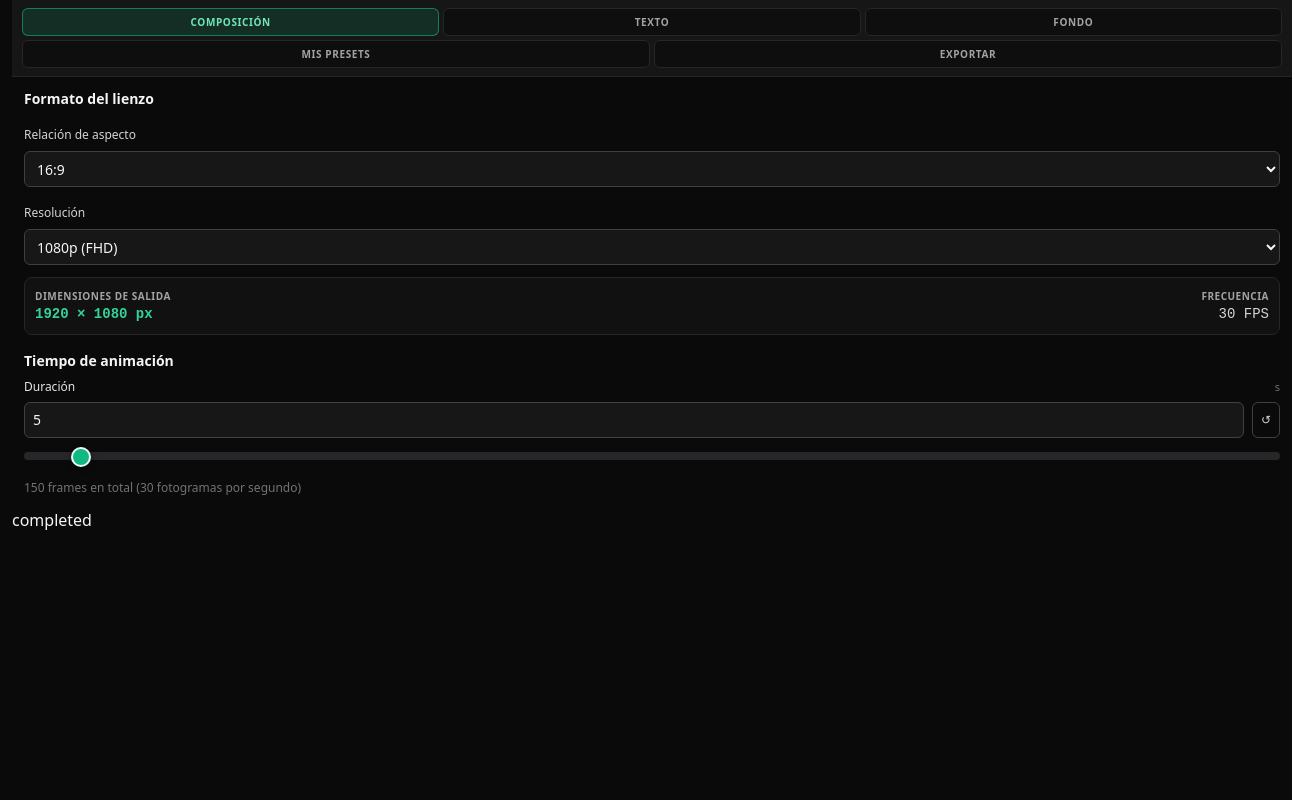
Test: InspectorPanel tabs › mantiene el Guardar previo conectado y bloqueado mientras una exportación individual real espera writable.write(blob)
Click the tab "Exportar". click: (968, 54)
box: [654,40,1282,68]
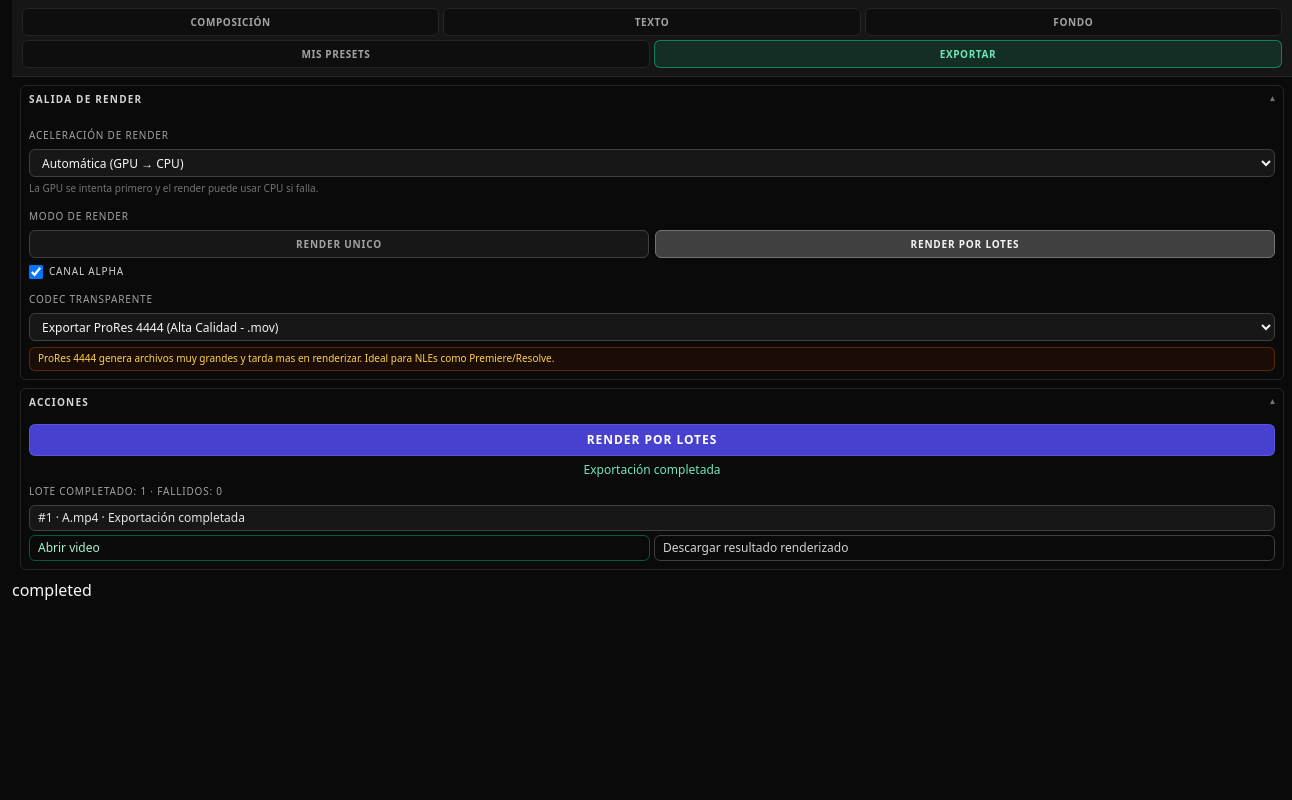
Now the button "Descargar resultado renderizado" is shown, box [654,535,1275,561]
Click the button "Render Unico". click: (339, 244)
box: [29,230,649,258]
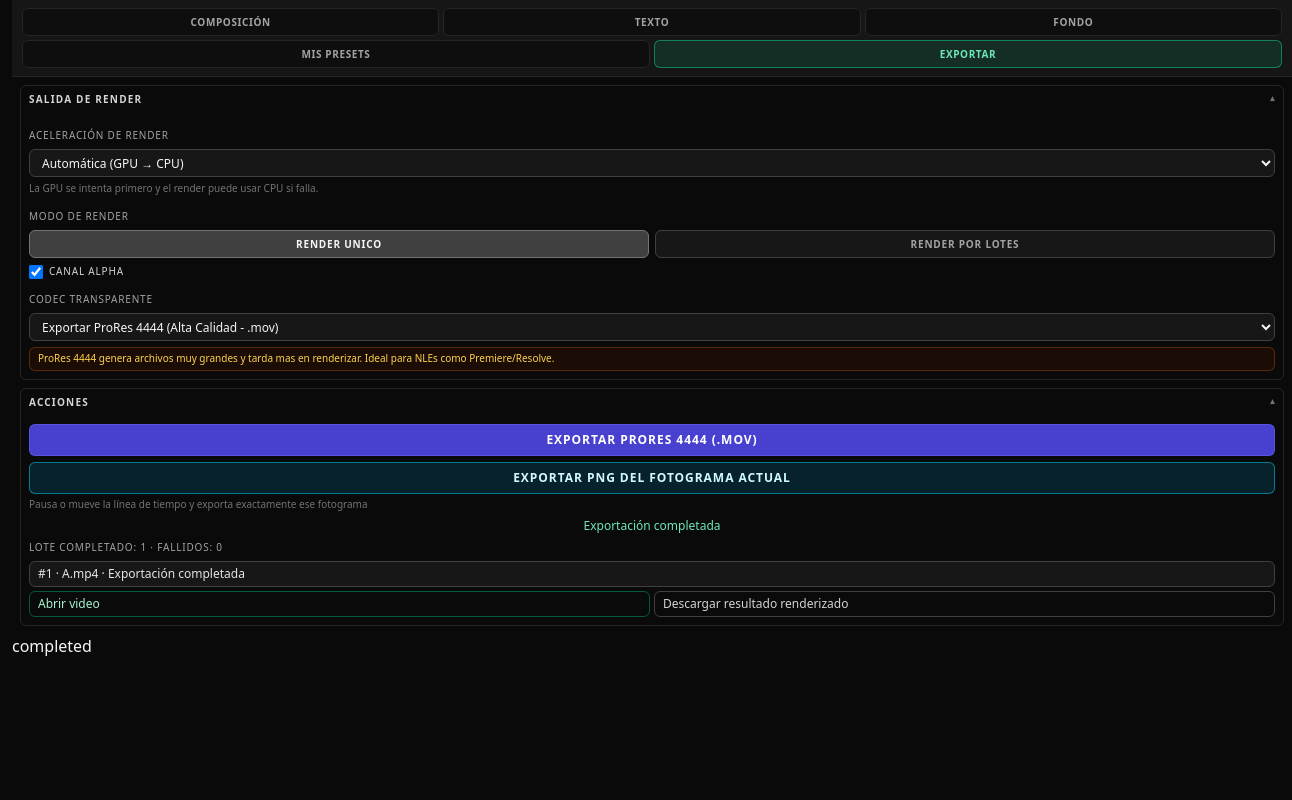
Click the button "Exportar ProRes 4444 (.mov)". click: (652, 440)
box: [29,424,1275,456]
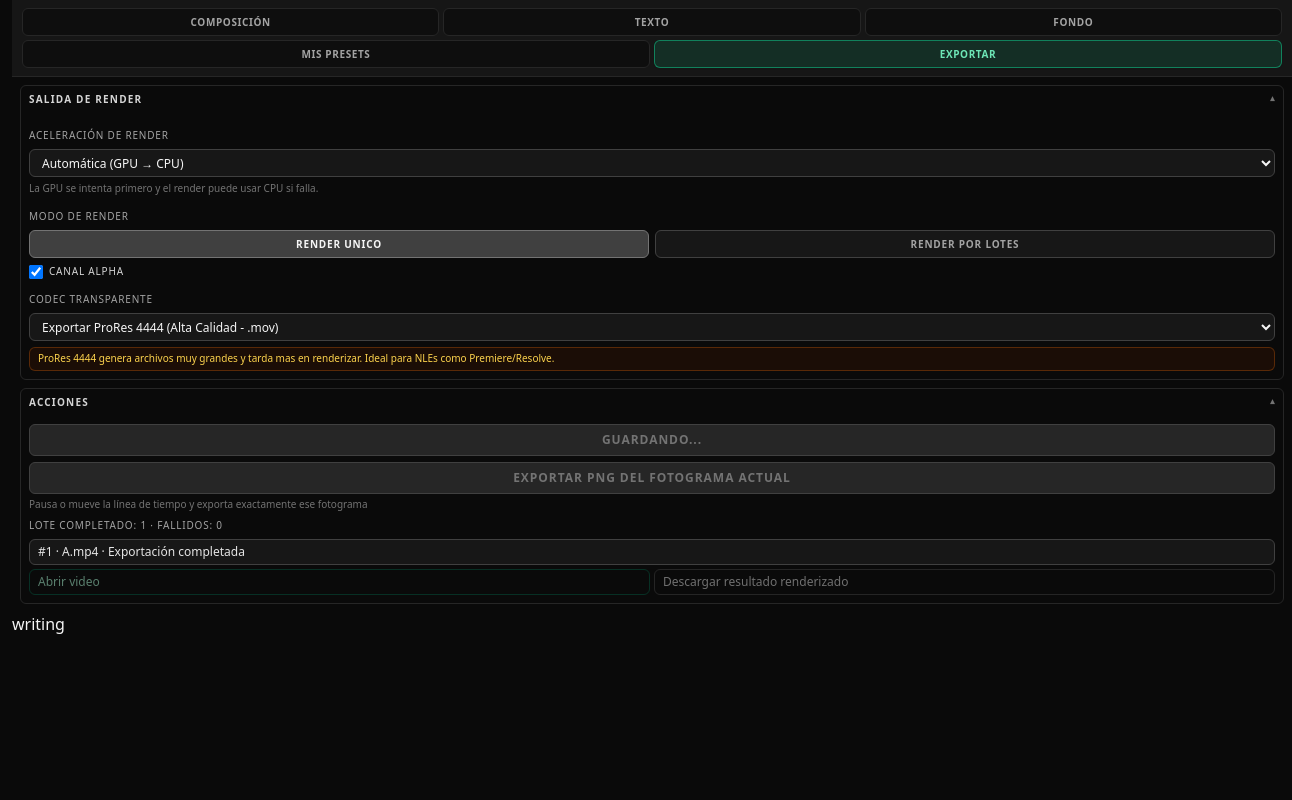
Now the text with test id "export-status" reads "writing", box [12,612,65,634]
Now the button "Descargar resultado renderizado" is disabled
Click the button "Descargar resultado renderizado". click: (756, 581)
box: [654,568,1275,594]
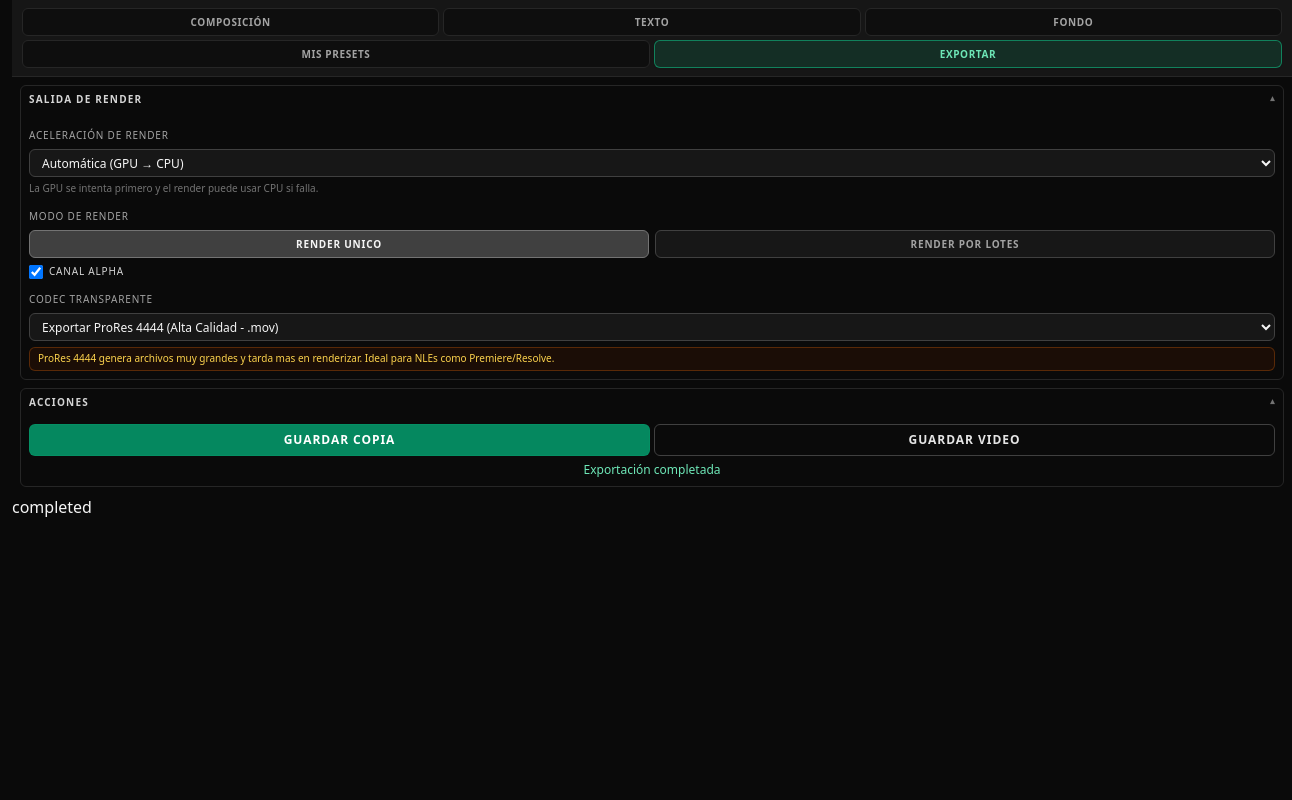
Now the text with test id "export-status" reads "completed", box [12,496,92,518]
Now the button "Guardar copia" is enabled, box [29,424,650,456]
